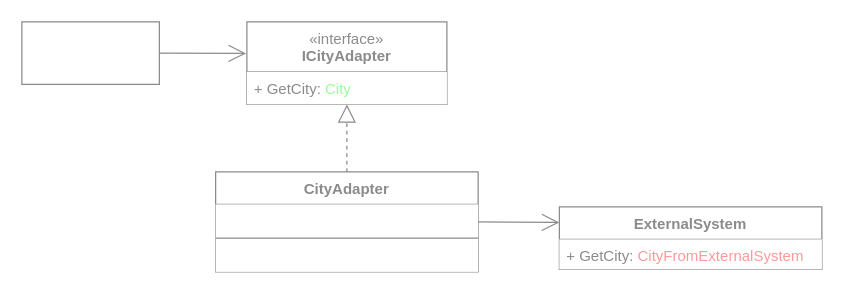
Some shapes in this 844 by 298 pixel diagram are drawn without their labels. The centre of each missing label's shape, as x and y in pixels:
"- ExternalSystem: ExternalSystem + GetCity: City" belongs at point 346,237.
"Client" belongs at point 90,52.
